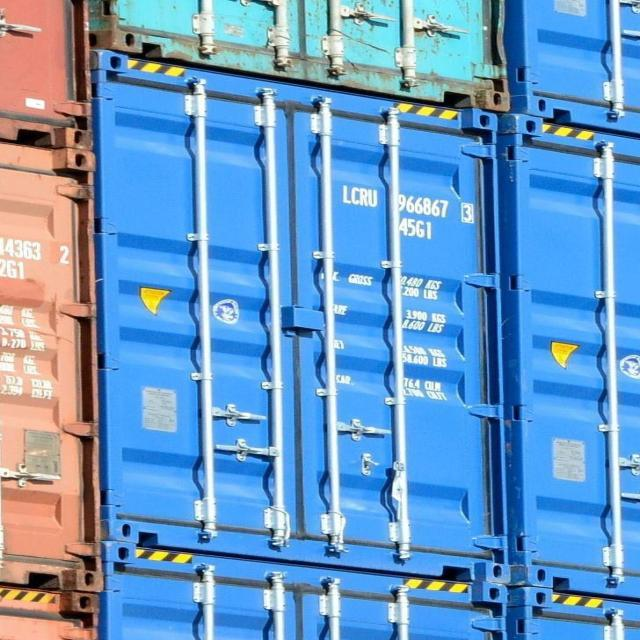ISO: (387, 218, 436, 238)
container_number: (341, 182, 494, 220)
